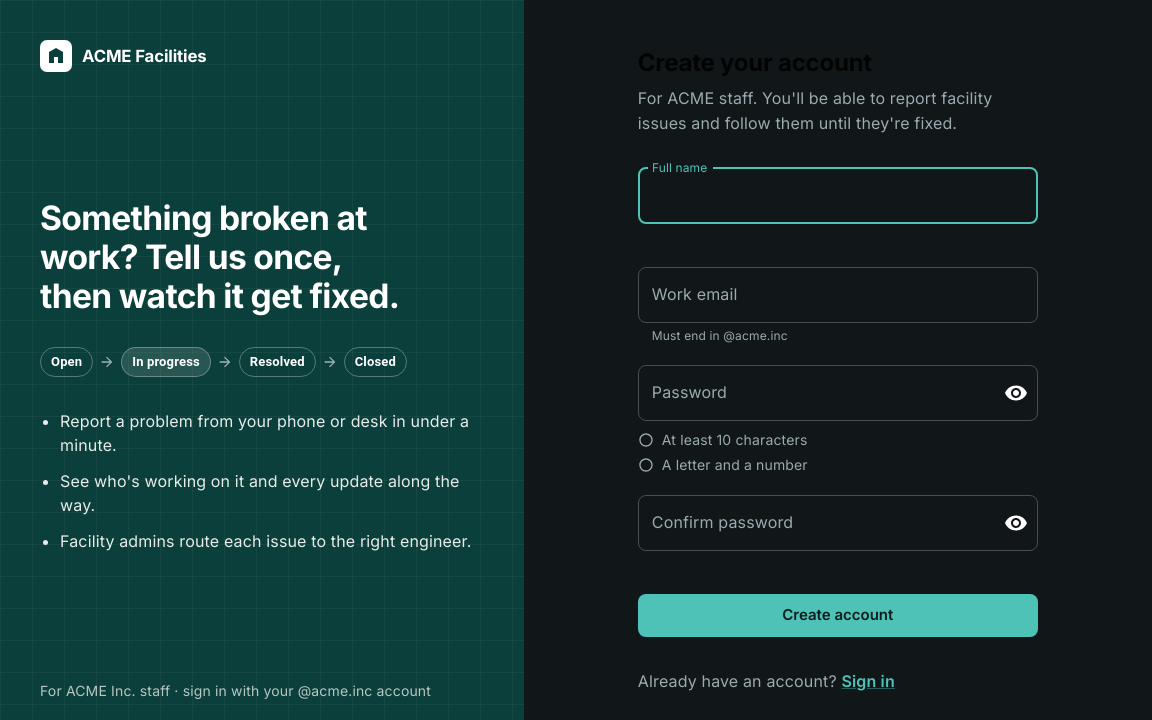
Register page › only accepts @acme.inc emails
This screenshot has width=1152, height=720.
In the field labelled "Full name": (838, 196) [638,168,1038,224], type "Sam Lee"
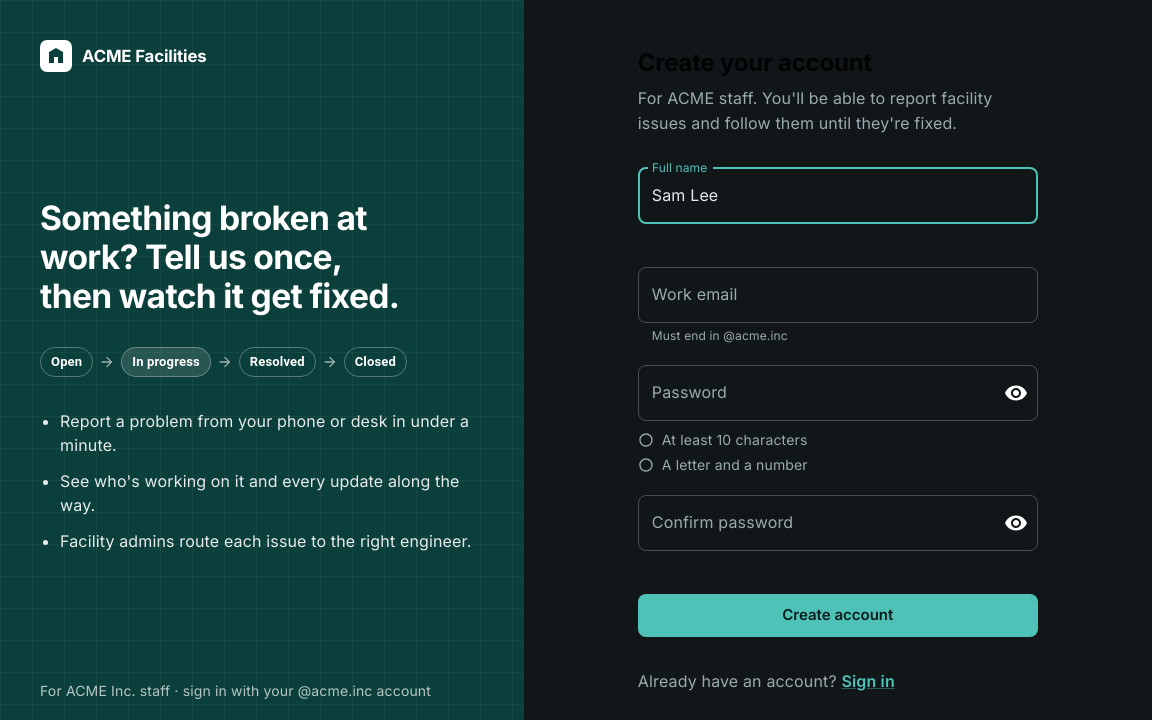
In the field labelled "Work email": (838, 294) [638,266,1038,322], type "sam@gmail.com"
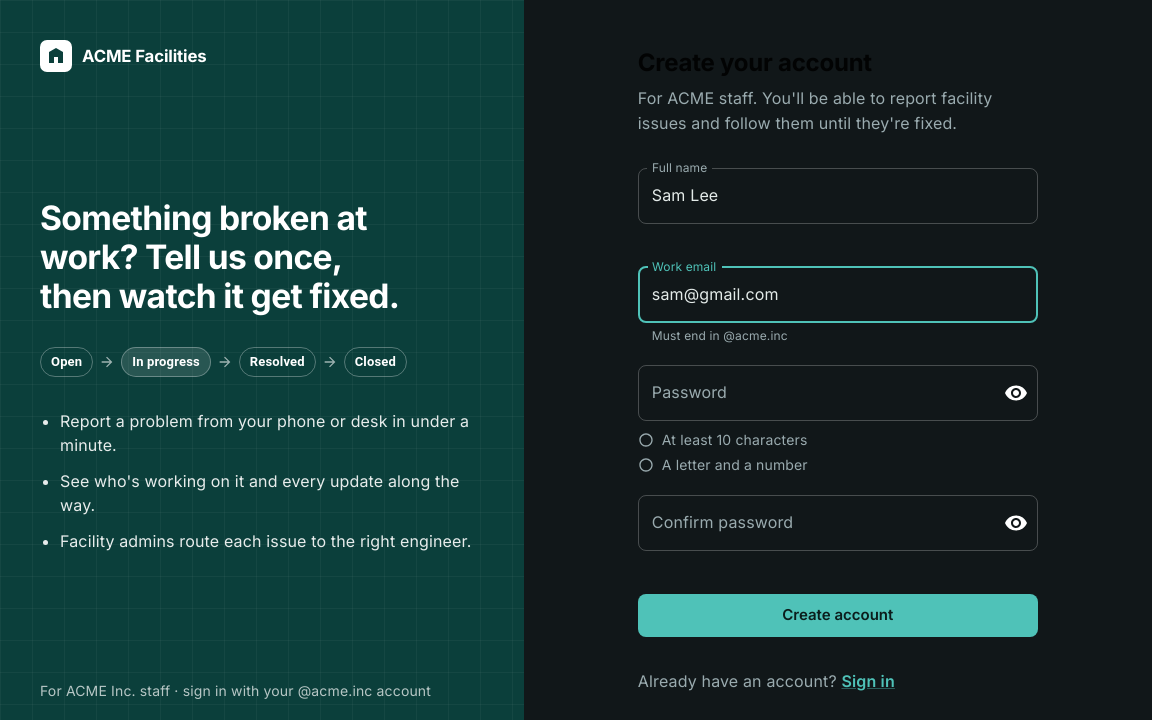
In the password field labelled "Password": (813, 393) [638,365,988,421], type "Welcome2026"
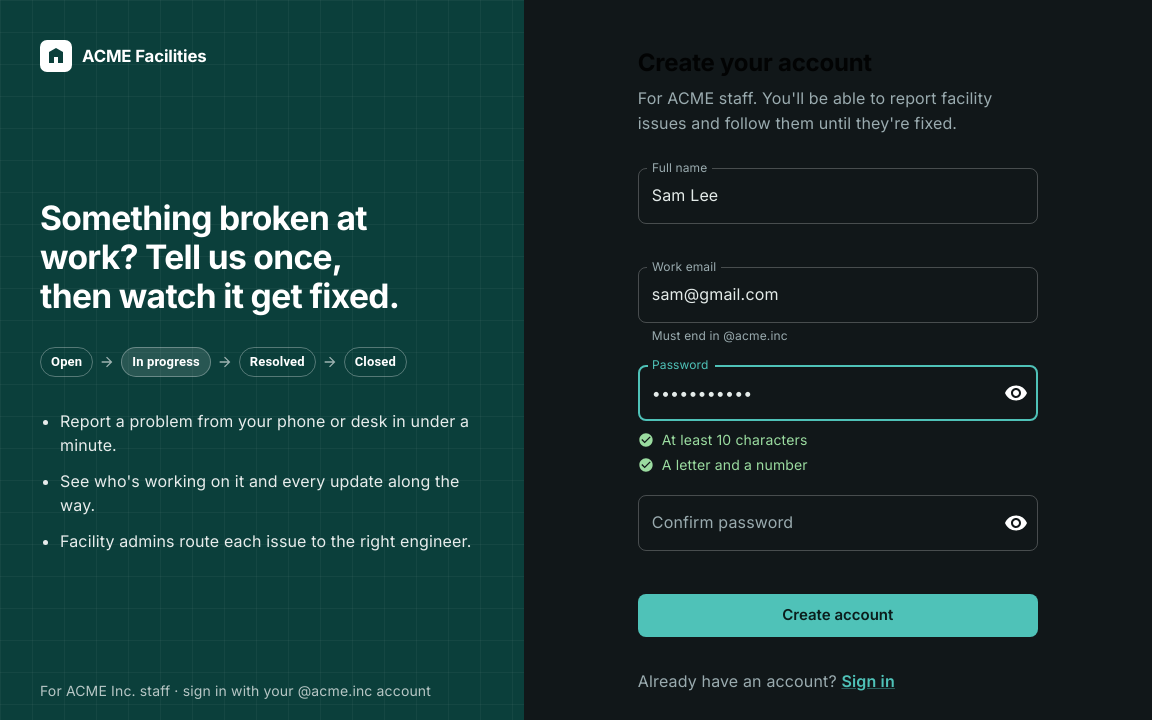
In the password field labelled "Confirm password": (813, 523) [638,495,988,551], type "Welcome2026"
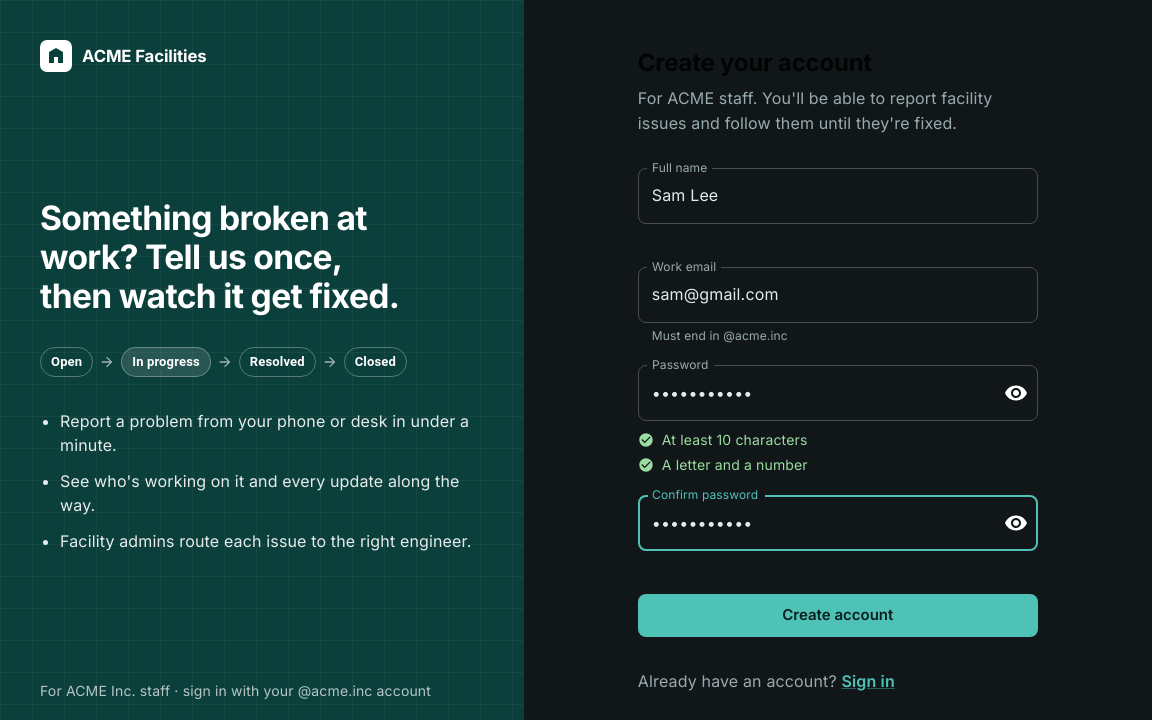
Click the button "Create account": click(838, 615) [638,594,1038,637]
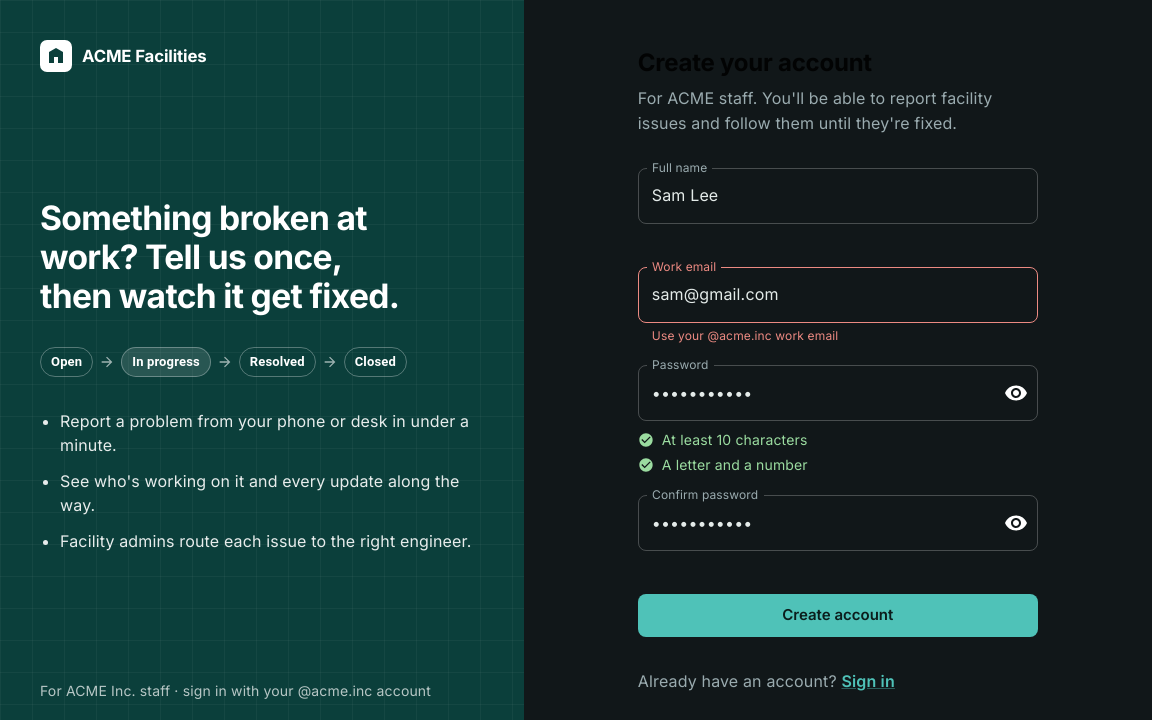
Expected: the text "Use your @acme.inc work email" is shown, [652,328,838,342]
